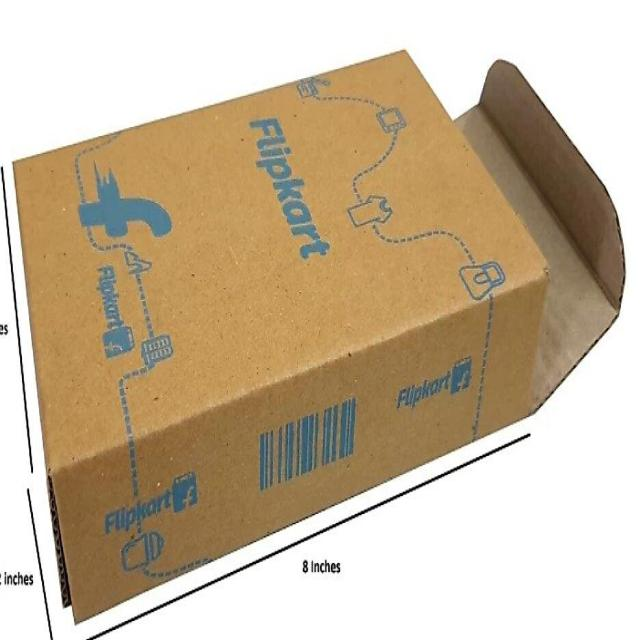box: (2, 52, 630, 638)
